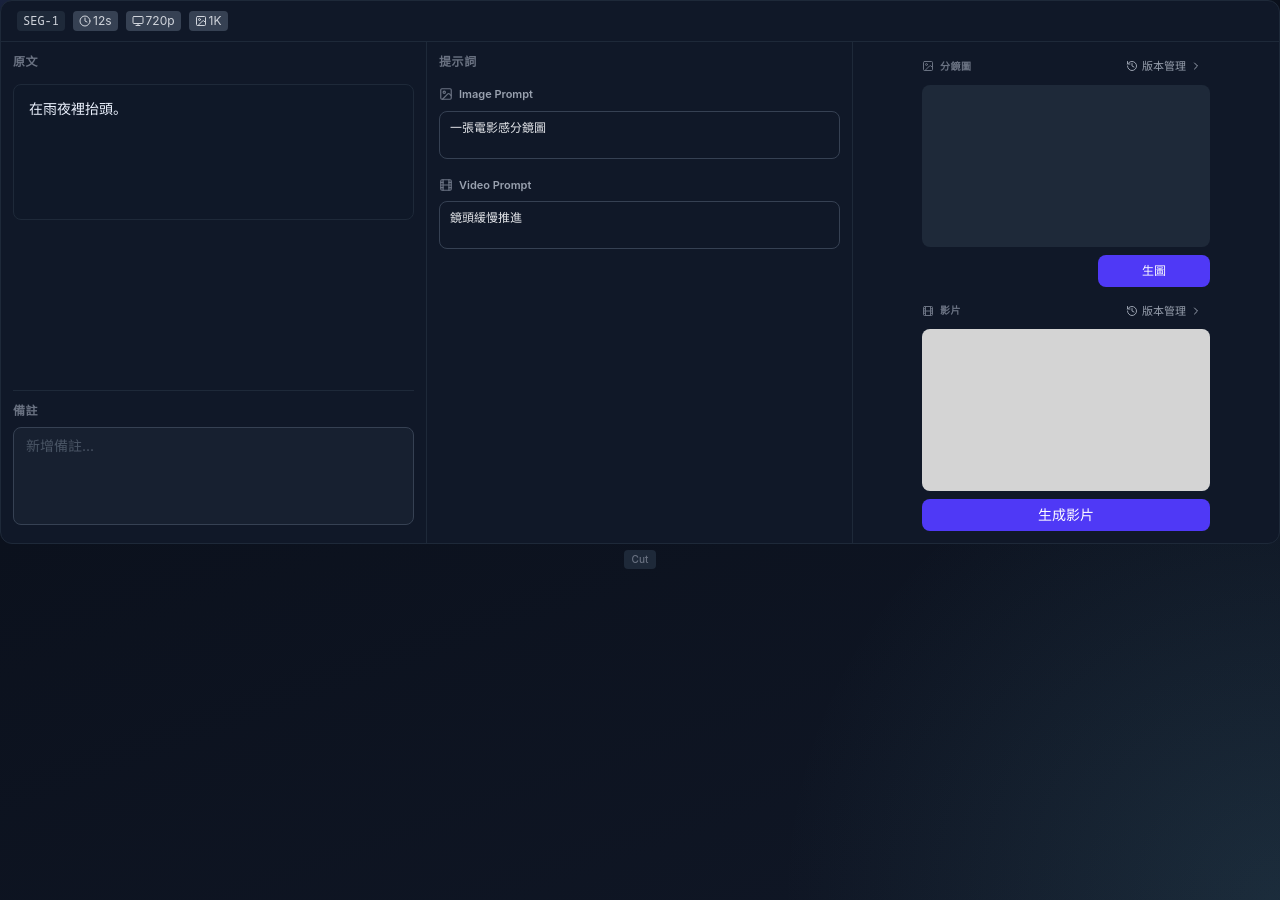
Test case: SegmentCard › prioritizes dynamicDurationOptions over project-level durationOptions
This screenshot has width=1280, height=900.
Step 1. Click the button "12s" → (95, 21), box [73, 11, 118, 31]
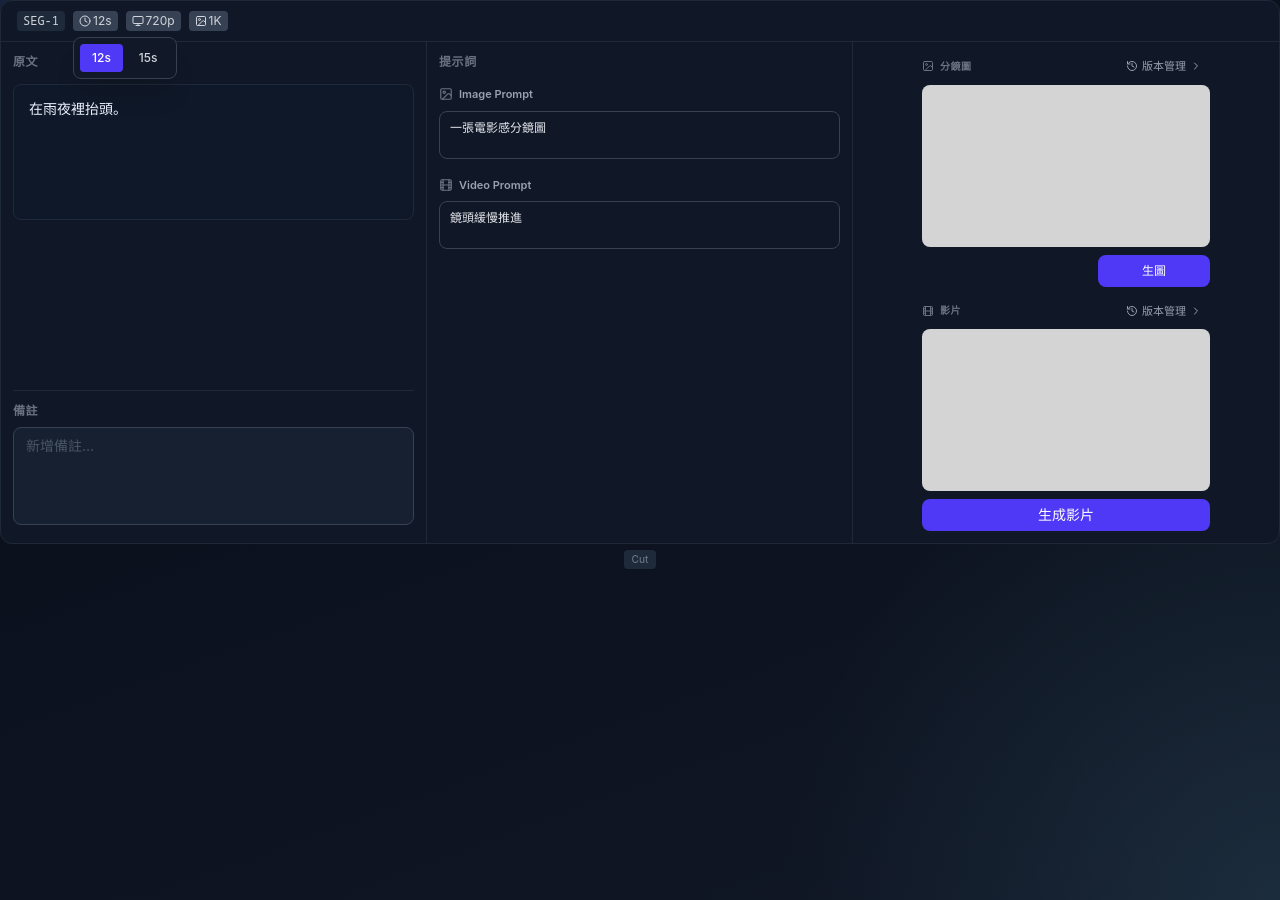
expect the radio button labelled "12s" is shown: met, box [80, 44, 123, 72]
expect the radio button labelled "15s" is shown: met, box [127, 44, 170, 72]
